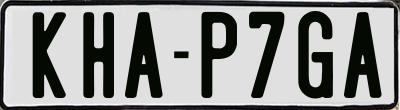7: (248, 9, 284, 99)
A: (342, 9, 384, 99), (123, 12, 166, 99)
G: (295, 8, 330, 101)
H: (83, 10, 117, 99)
K: (31, 11, 65, 100)
P: (198, 9, 234, 98)
